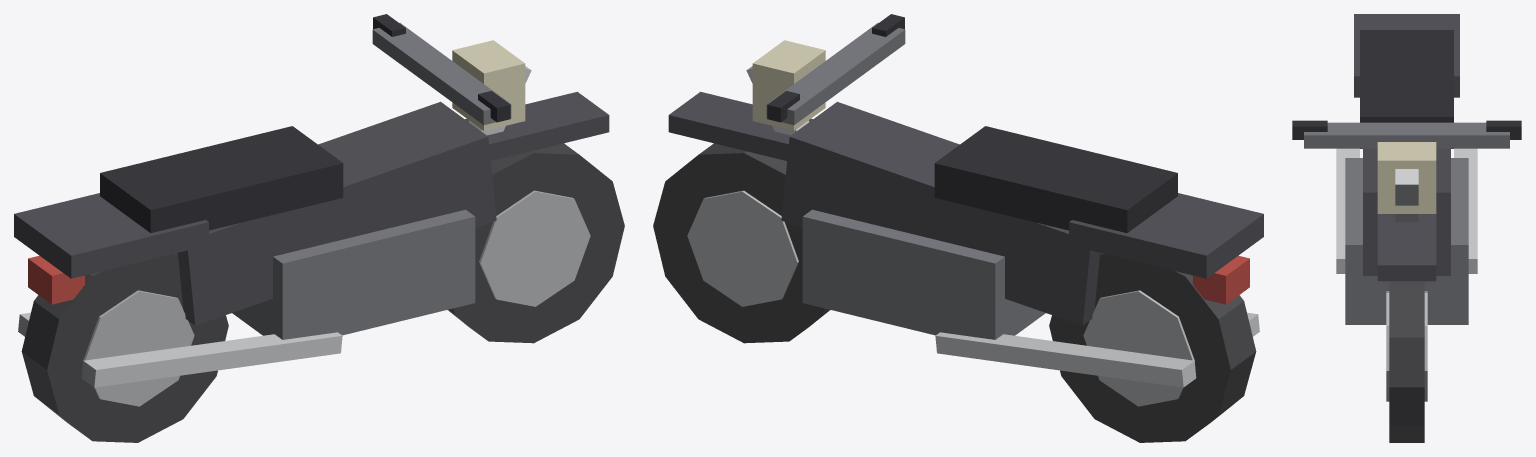
Rendered from Motosiklet_Siyah.glb.
The picture shows the model from 3 angles, left to right: view 1: azimuth 30°, elevation 25°; view 2: azimuth 150°, elevation 25°; view 3: azimuth 270°, elevation 25°; orthographic projection. The views are drawn at different scales.
Visible parts, largest first — view 1: Motosiklet_Siyah; view 2: Motosiklet_Siyah; view 3: Motosiklet_Siyah.
Boxes of the visible parts, <box> form: Motosiklet_Siyah: <box>14,14,624,442</box>; Motosiklet_Siyah: <box>653,14,1263,442</box>; Motosiklet_Siyah: <box>1292,14,1521,442</box>.
Size of the model in its own units: 2.11 by 1.02 by 0.78.
